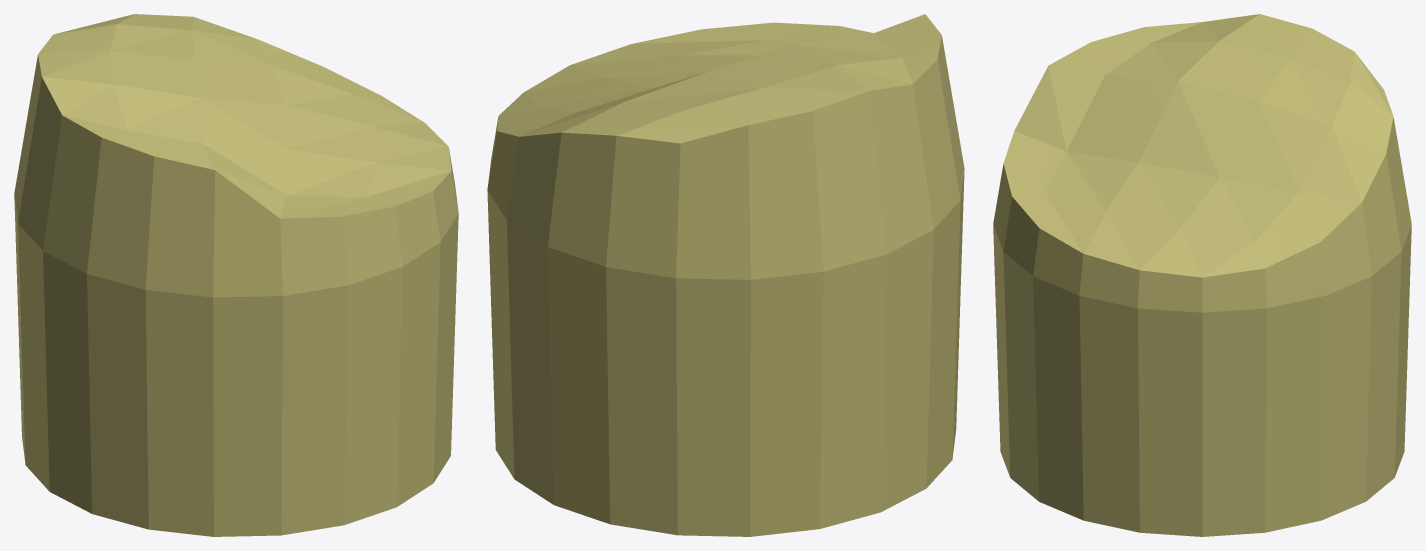
Rendered from Pepper_Shaker_2_0.obj.
3 views of the same model, side by side, from view 1: azimuth 30°, elevation 25°; view 2: azimuth 150°, elevation 25°; view 3: azimuth 270°, elevation 25° (orthographic). The views are drawn at different scales.
Size of the model in its own units: 0.0553 by 0.0529 by 0.0553.
